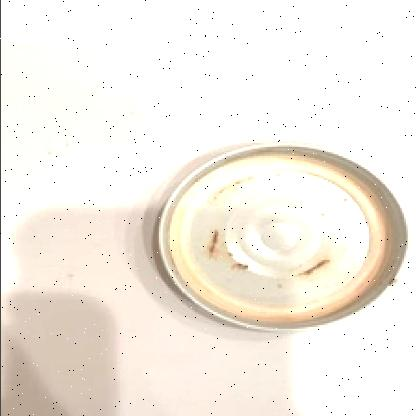Can: (128, 100, 416, 377)
